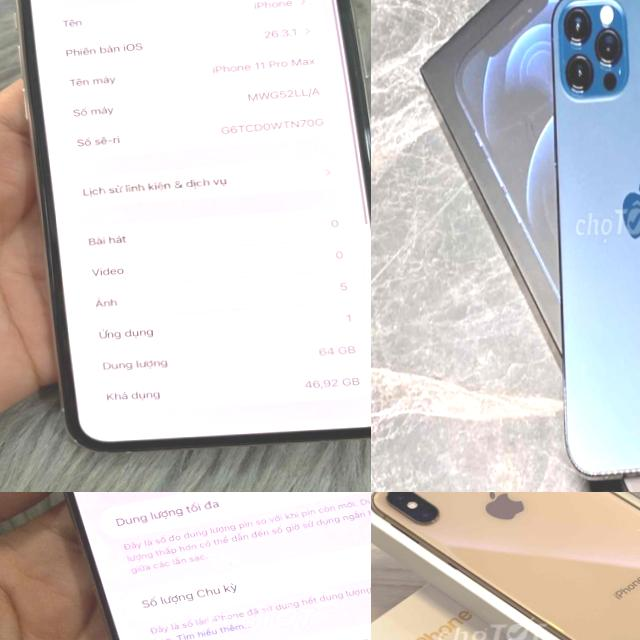gen_11: (6, 0, 371, 460)
gen_12_13: (543, 0, 640, 492)
gen_16: (64, 492, 371, 640)
gen_x_xs: (371, 492, 640, 640)
